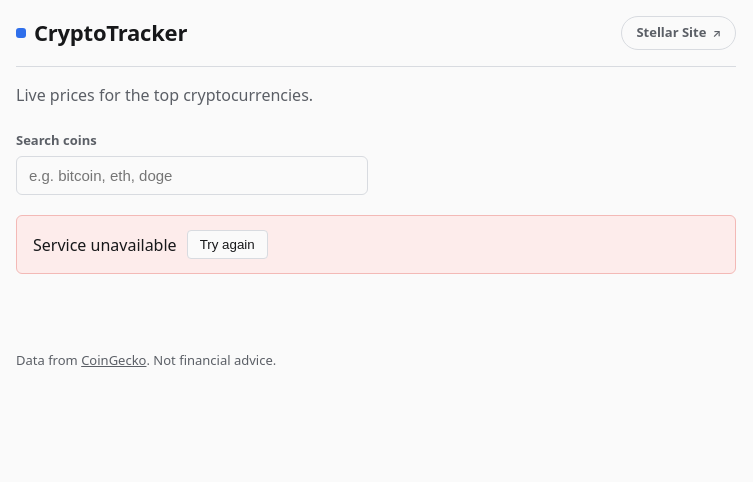
Scenario: App › shows the real failure shape the server sends, and lets the user retry
Expected: the message shows "Service unavailable", [33,234,177,256]
Click the button "Try again": click(227, 244) [187,230,268,259]
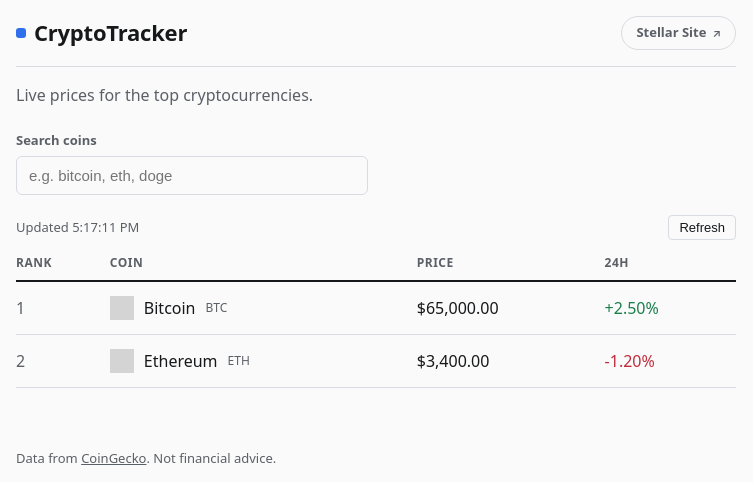
Now the table shows "Bitcoin", box [110,292,407,324]
